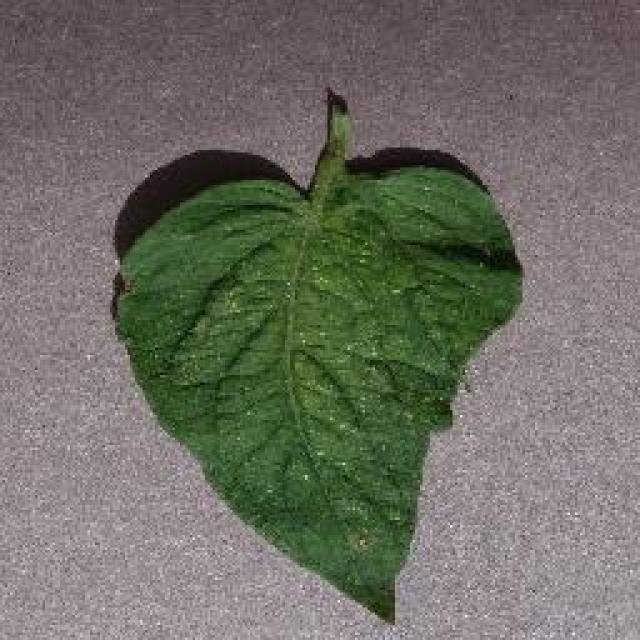Tomato___Spider_mites Two-spotted_spider_mite: (118, 90, 520, 618)
